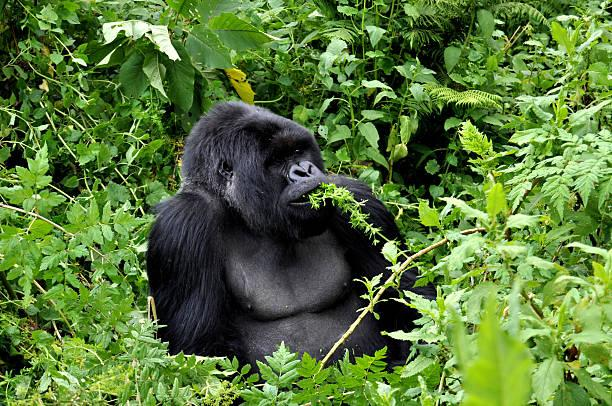goriile_montagne: (146, 81, 416, 352)
